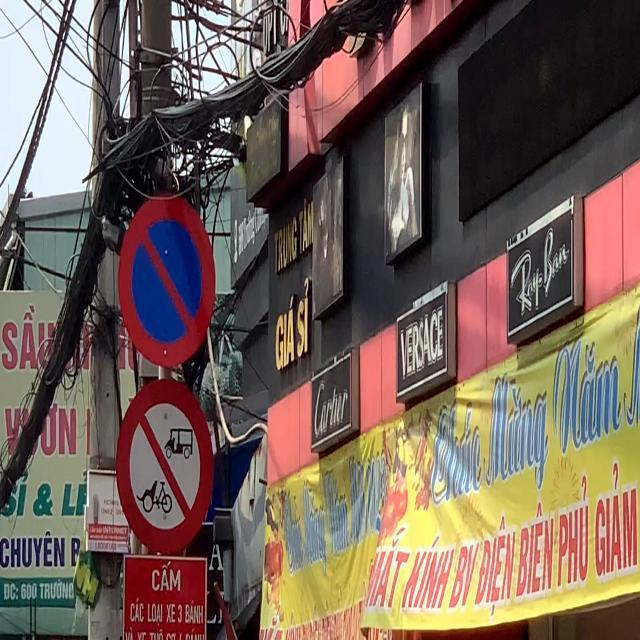131a-cam-do-xe: (118, 192, 215, 366)
